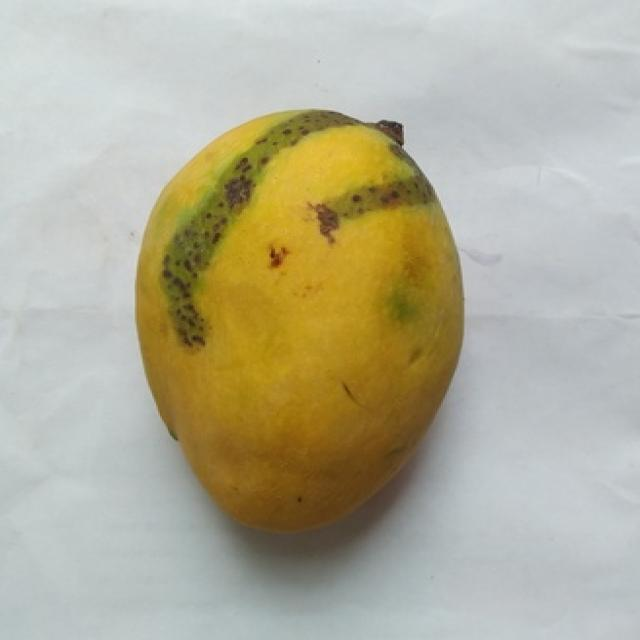Mango: (137, 110, 462, 530)
